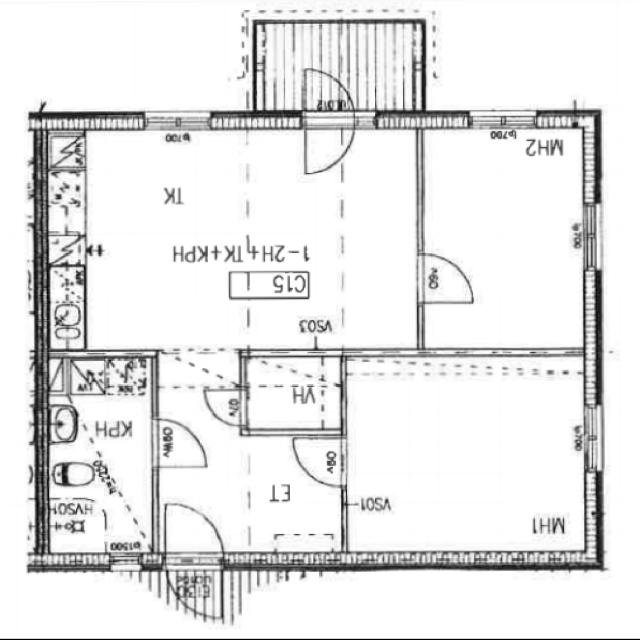door: (162, 500, 223, 562), (153, 415, 208, 472), (423, 252, 476, 306), (288, 435, 344, 486), (303, 121, 349, 178), (304, 67, 349, 115), (202, 386, 247, 430)
window: (580, 198, 609, 278), (582, 398, 609, 477), (141, 109, 215, 132), (468, 110, 538, 130), (106, 550, 146, 575)
zone: (40, 134, 423, 345), (345, 353, 597, 567), (422, 124, 595, 364), (39, 352, 155, 553), (219, 431, 344, 562), (243, 355, 344, 436)
